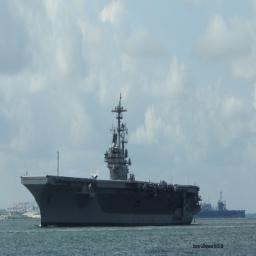Portanaves: (20, 87, 203, 231)
